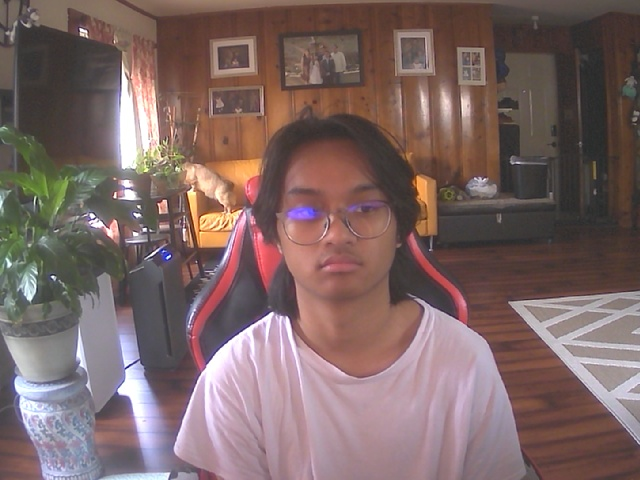neutral: (274, 126, 409, 306)
